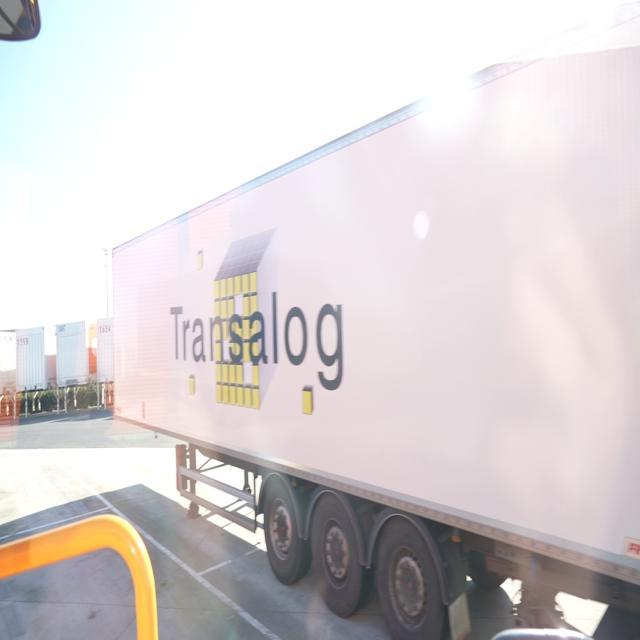Code: (14, 333, 32, 348), (97, 319, 111, 337)
